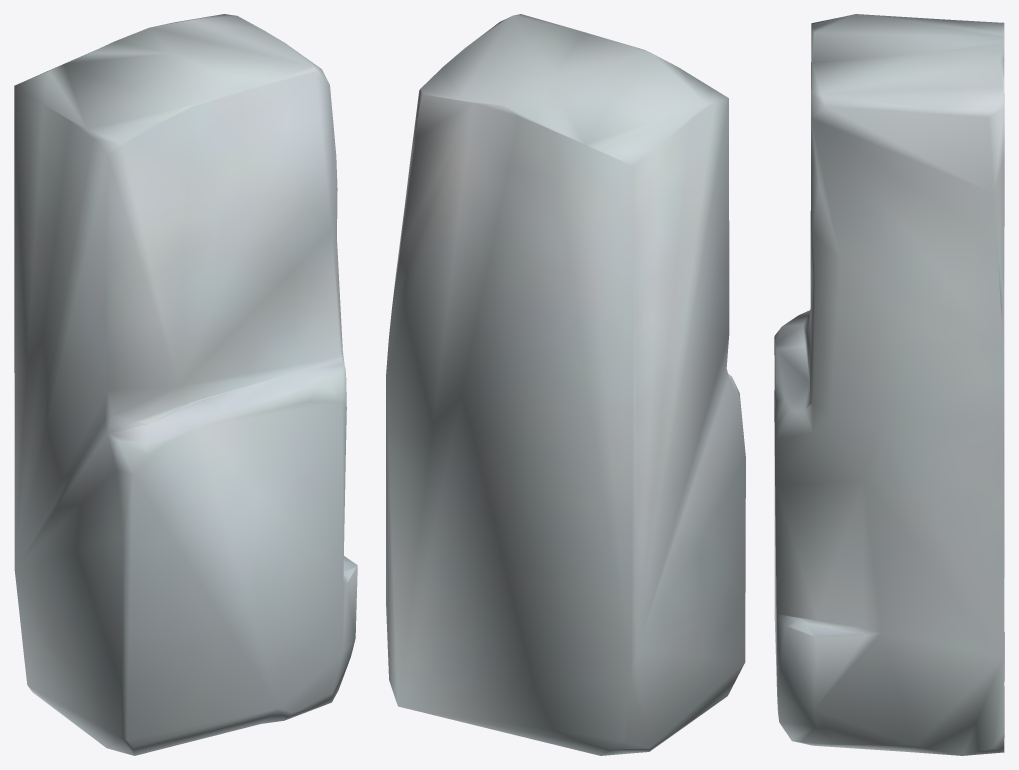
File: P_CubicCliffPiece02.obj
The picture shows the model from 3 angles, left to right: view 1: azimuth 30°, elevation 25°; view 2: azimuth 150°, elevation 25°; view 3: azimuth 270°, elevation 25°; orthographic projection. The views are drawn at different scales.
Size of the model in its own units: 4.71 by 11.1 by 3.58.
